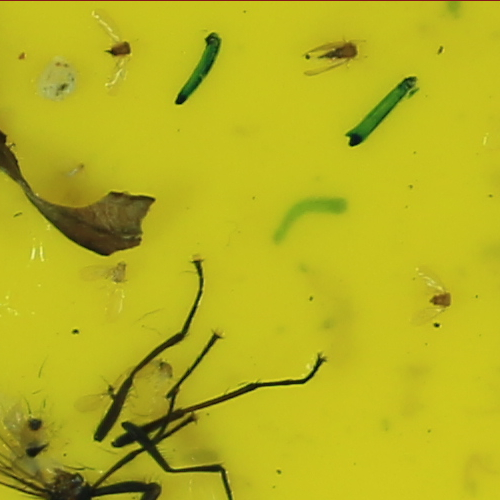psylla: (319, 39, 362, 64), (106, 38, 135, 59), (427, 289, 457, 309)
